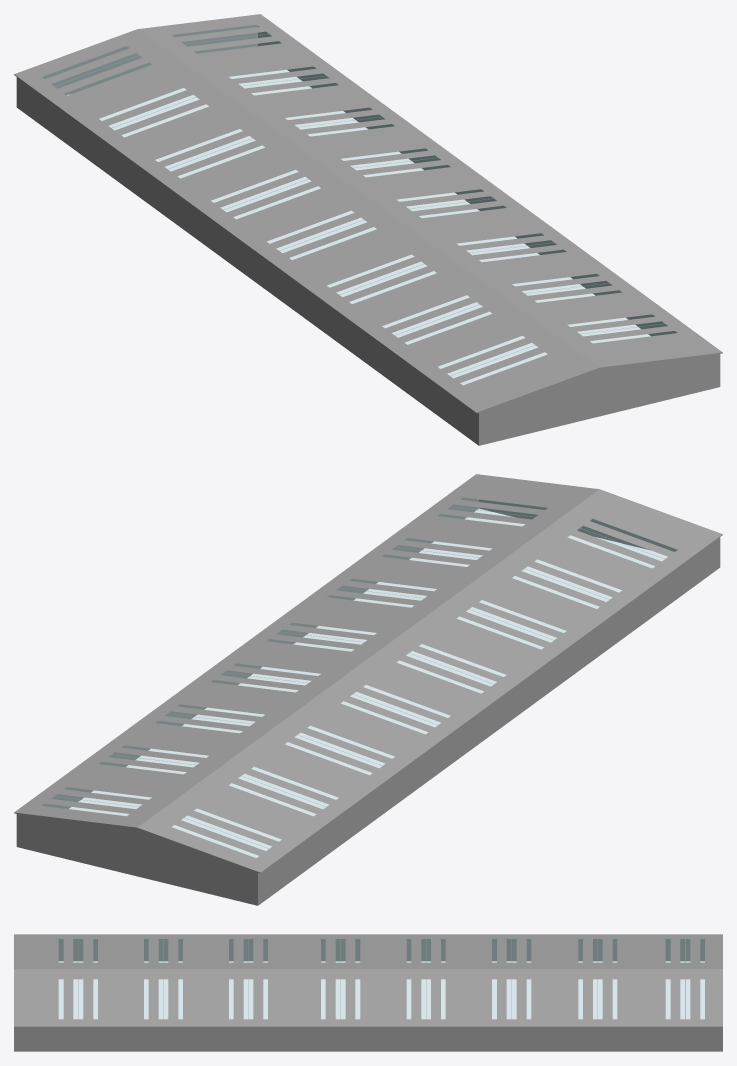
File: loods1.fbx
The picture shows the model from 3 angles, top to bottom: view 1: azimuth 30°, elevation 25°; view 2: azimuth 150°, elevation 25°; view 3: azimuth 270°, elevation 25°; orthographic projection. The views are drawn at different scales.
Visible parts, largest first — view 1: quaded; view 2: quaded; view 3: quaded.
Part boxes in pixels (box(x1,y1,x2,y2)): quaded: box(14, 14, 722, 445); quaded: box(14, 474, 722, 905); quaded: box(14, 934, 722, 1051).
Bounding box in the file's own units: 0.6845 × 0.1296 × 2.22.
